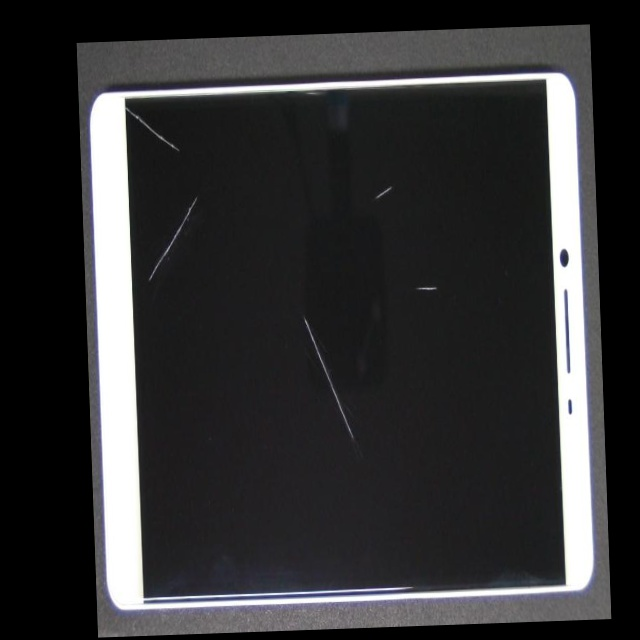scratch: (156, 103, 429, 538), (241, 135, 584, 430)
